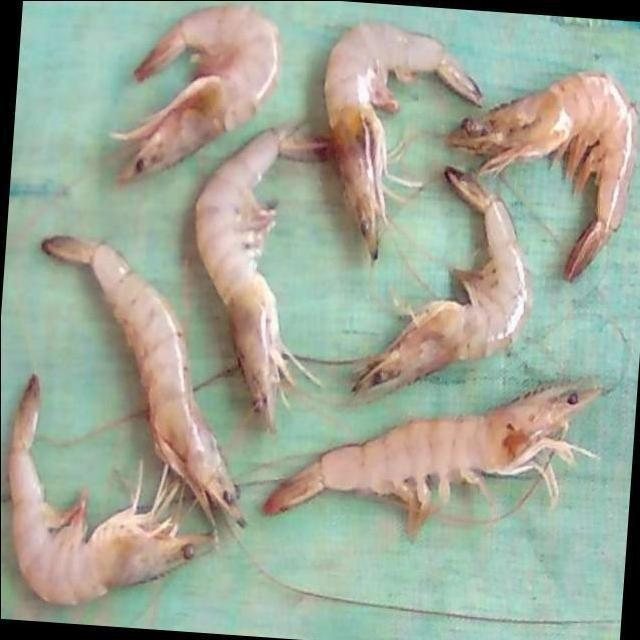shrimp: (39, 235, 242, 525), (262, 385, 601, 538), (5, 374, 208, 606), (352, 167, 530, 393), (446, 72, 637, 280), (323, 22, 482, 259), (110, 4, 278, 182), (193, 128, 290, 431)
